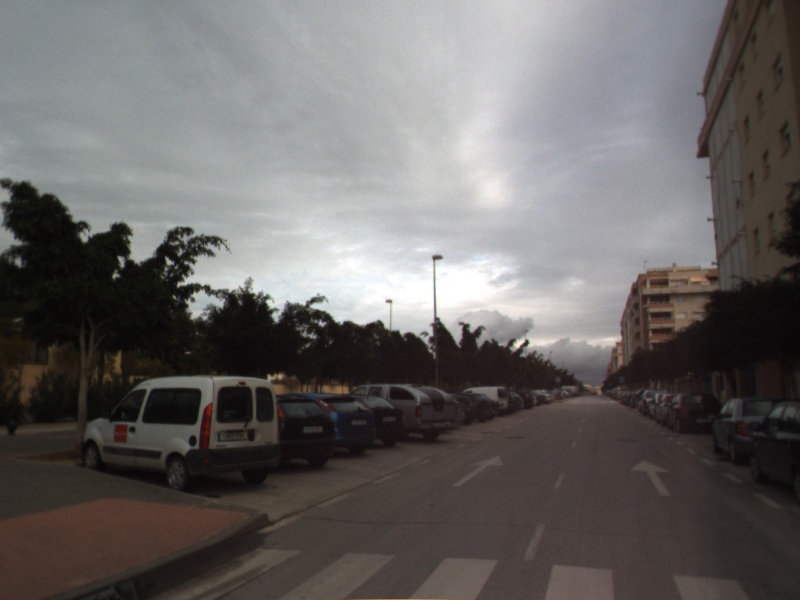STRAIGHT: (450, 453, 506, 489), (628, 457, 675, 498)
